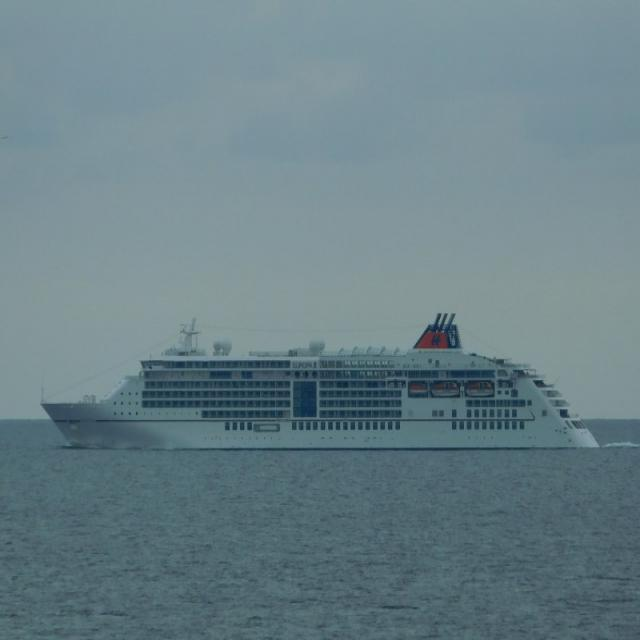cruises: (37, 310, 616, 458)
